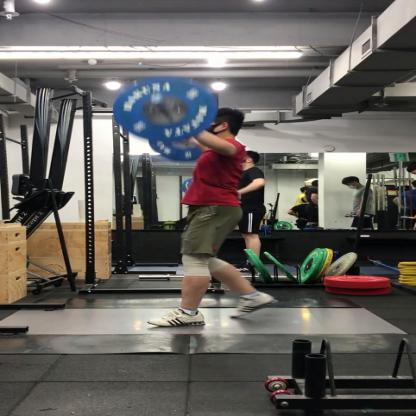Barbell: (103, 73, 222, 147)
